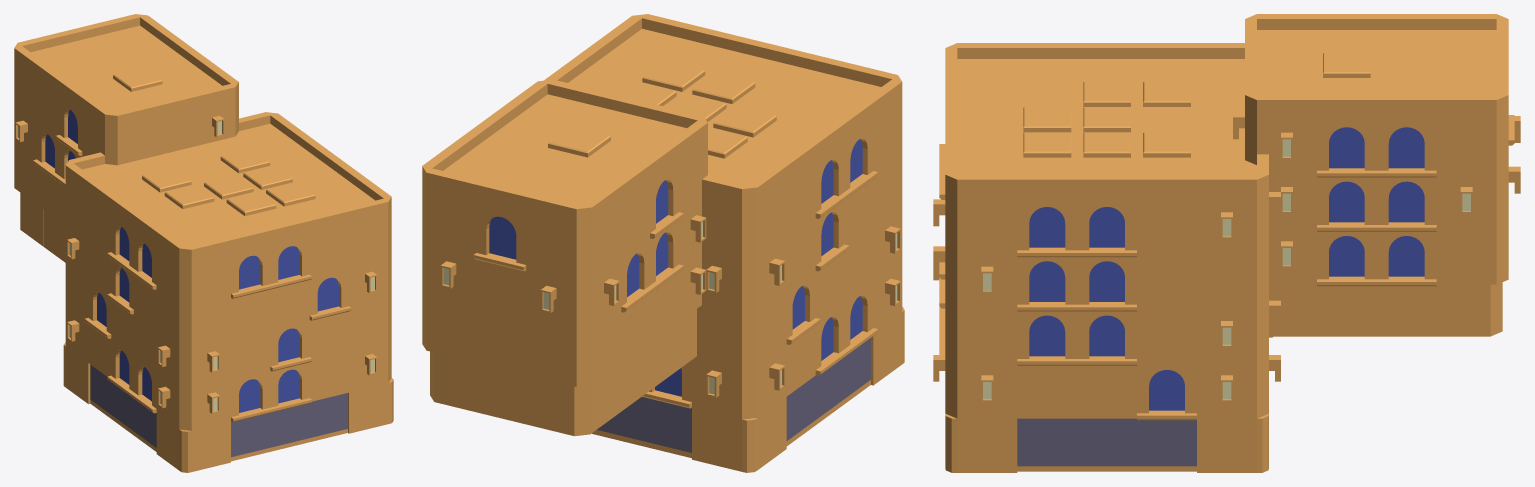
Rendered from house v2.004.fbx.
3 views of the same model, side by side, from view 1: azimuth 30°, elevation 25°; view 2: azimuth 150°, elevation 25°; view 3: azimuth 270°, elevation 25° (orthographic). The views are drawn at different scales.
Visible parts, largest first — view 1: House.001; view 2: House.001; view 3: House.001.
Part boxes in pixels (x1,y1,x2,y2): House.001: (14,14,393,472); House.001: (422,14,904,472); House.001: (933,14,1520,472).
Size of the model in its own units: 580 by 640 by 980.
